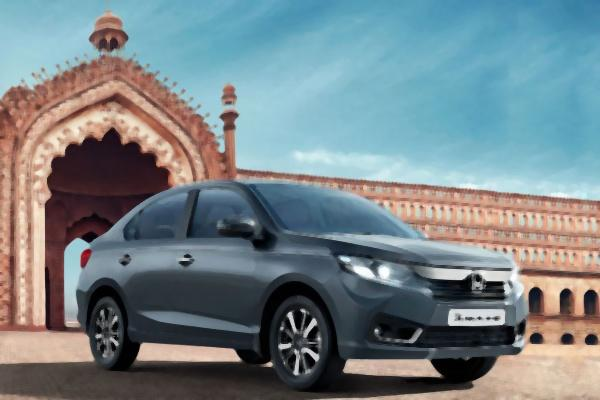Car hood: (282, 228, 522, 271)
Driver-s door - -F-R-: (177, 183, 253, 344)
Fender - -F-R-: (253, 224, 342, 348)
Fender - -R-R-: (85, 245, 127, 343)
Front bumper: (324, 276, 533, 364)
Headlight - -R-: (332, 252, 418, 288)
Passenger-s door - -R-R-: (109, 184, 176, 341)
Rear bumper: (71, 273, 96, 339)
Rear light - -R-: (75, 243, 96, 271)
Side bumper - -R-: (119, 323, 266, 355)
Side mirror - -R-: (208, 210, 262, 246)
